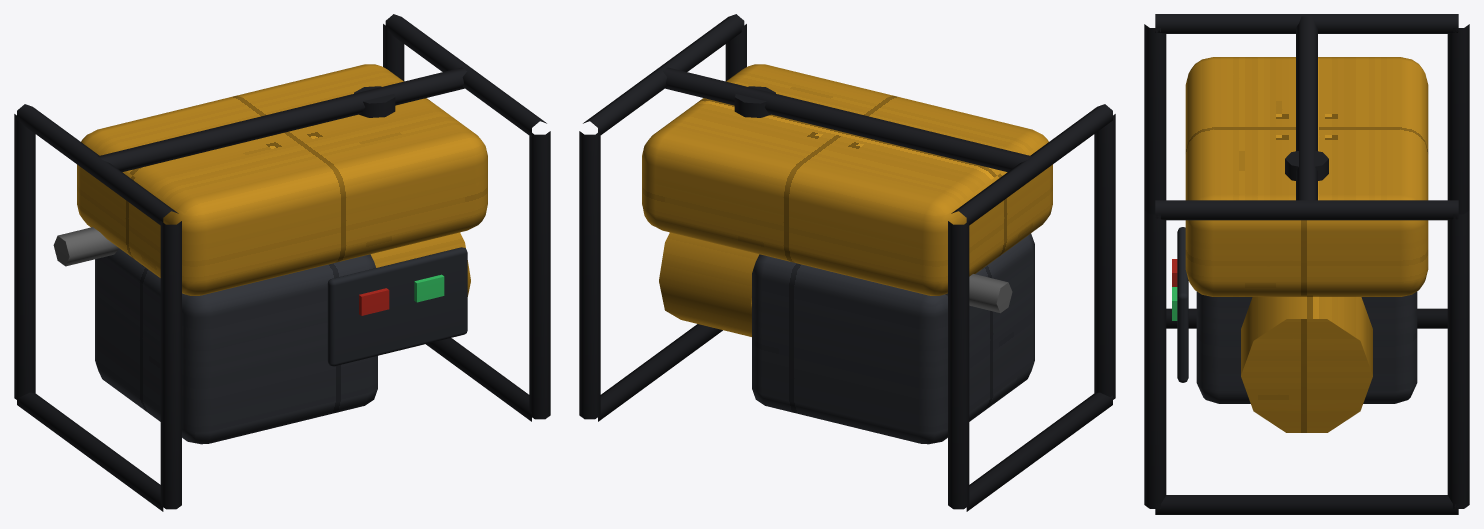
The model's file is gerador.glb.
3 renders of one model, left to right at view 1: azimuth 30°, elevation 25°; view 2: azimuth 150°, elevation 25°; view 3: azimuth 270°, elevation 25°, orthographic. The views are drawn at different scales.
Parts seen in each view (by area): view 1: gerador, gerador_liso; view 2: gerador, gerador_liso; view 3: gerador, gerador_liso.
Part boxes in pixels (x1,y1,x2,y2): gerador: (77,64,487,444); gerador_liso: (14,14,550,511); gerador: (642,64,1052,444); gerador_liso: (579,14,1115,511); gerador: (1185,57,1428,432); gerador_liso: (1144,14,1469,514).
Size of the model in its own units: 0.8346 by 0.63 by 0.59.
Materials: 2 (1 with a texture image).
